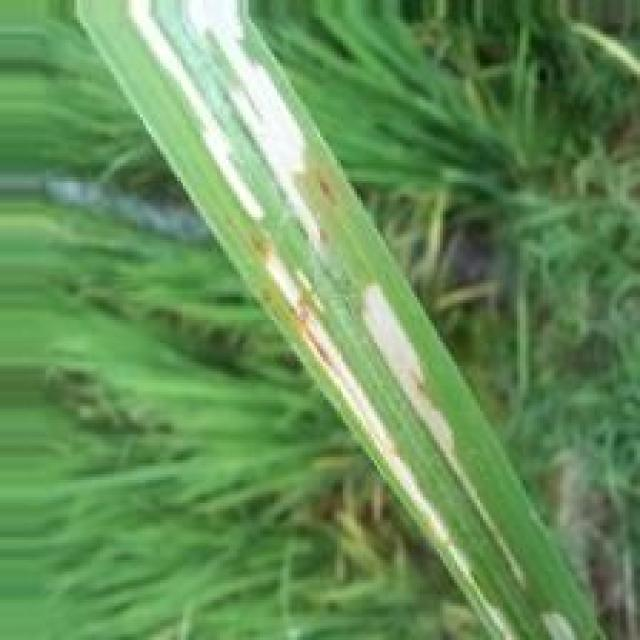Rice_Hispa: (124, 0, 512, 640), (357, 280, 529, 585), (185, 0, 324, 256)
